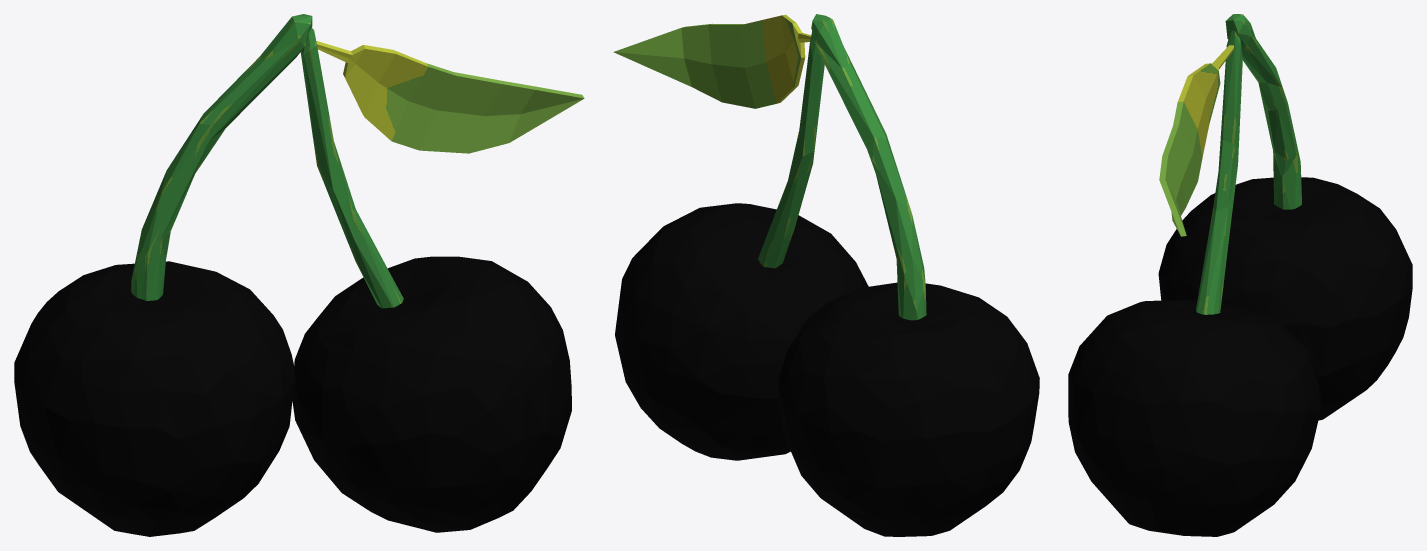
The model's file is cherry.obj.
3 views of the same model, side by side, from view 1: azimuth 30°, elevation 25°; view 2: azimuth 150°, elevation 25°; view 3: azimuth 270°, elevation 25° (orthographic). The views are drawn at different scales.
Parts seen in each view (by area): view 1: Plane.001_Plane.036; view 2: Plane.001_Plane.036; view 3: Plane.001_Plane.036.
Part boxes in pixels (<box>): Plane.001_Plane.036: <box>14,14,584,536</box>; Plane.001_Plane.036: <box>613,14,1039,536</box>; Plane.001_Plane.036: <box>1068,14,1412,536</box>.
Bounding box in the file's own units: 0.6552 × 0.6498 × 0.4378.
